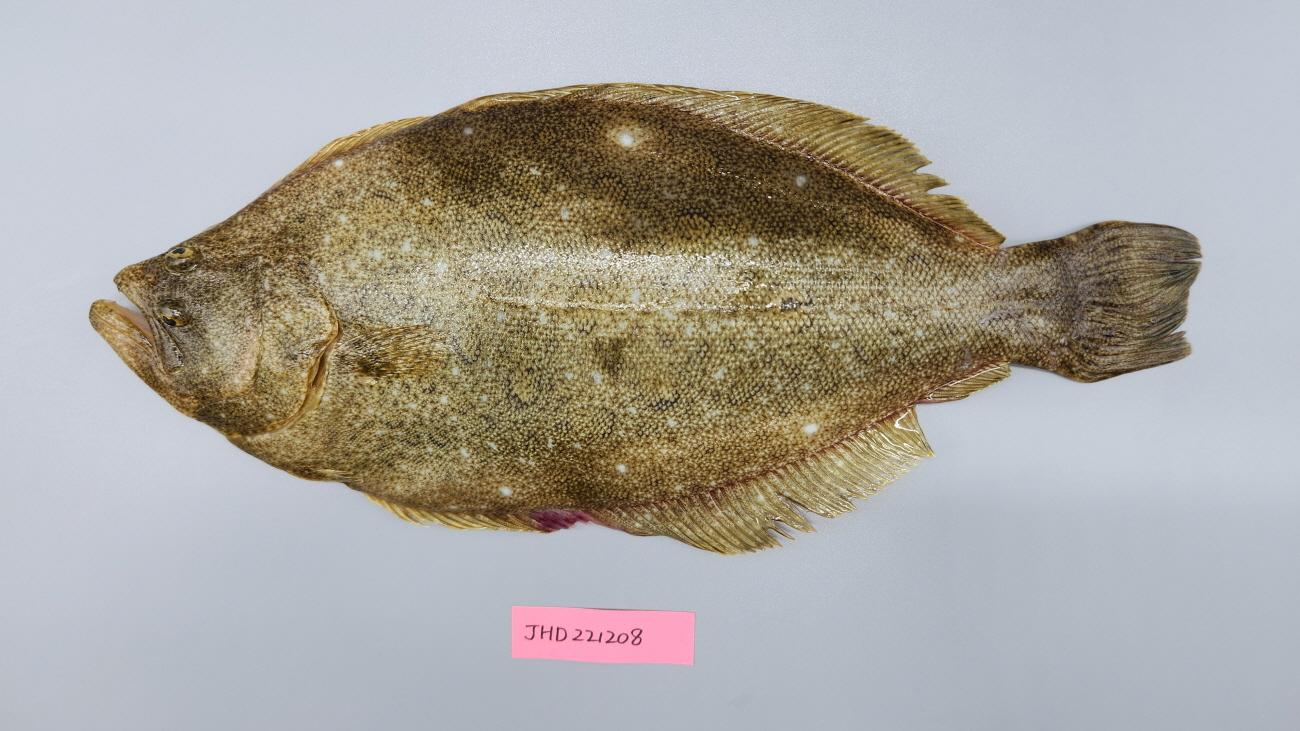VIFAN: (506, 507, 639, 538)
VIOUY: (89, 82, 1203, 556)
